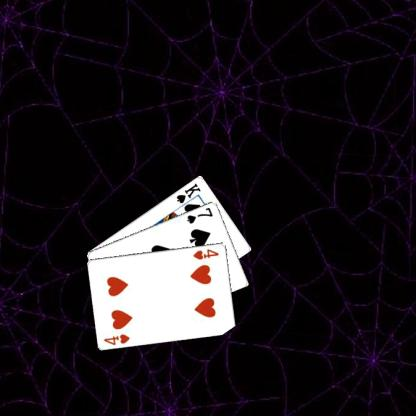4H: (101, 332, 131, 346), (191, 246, 220, 260)
7S: (185, 204, 214, 225)
KS: (173, 180, 202, 204)
